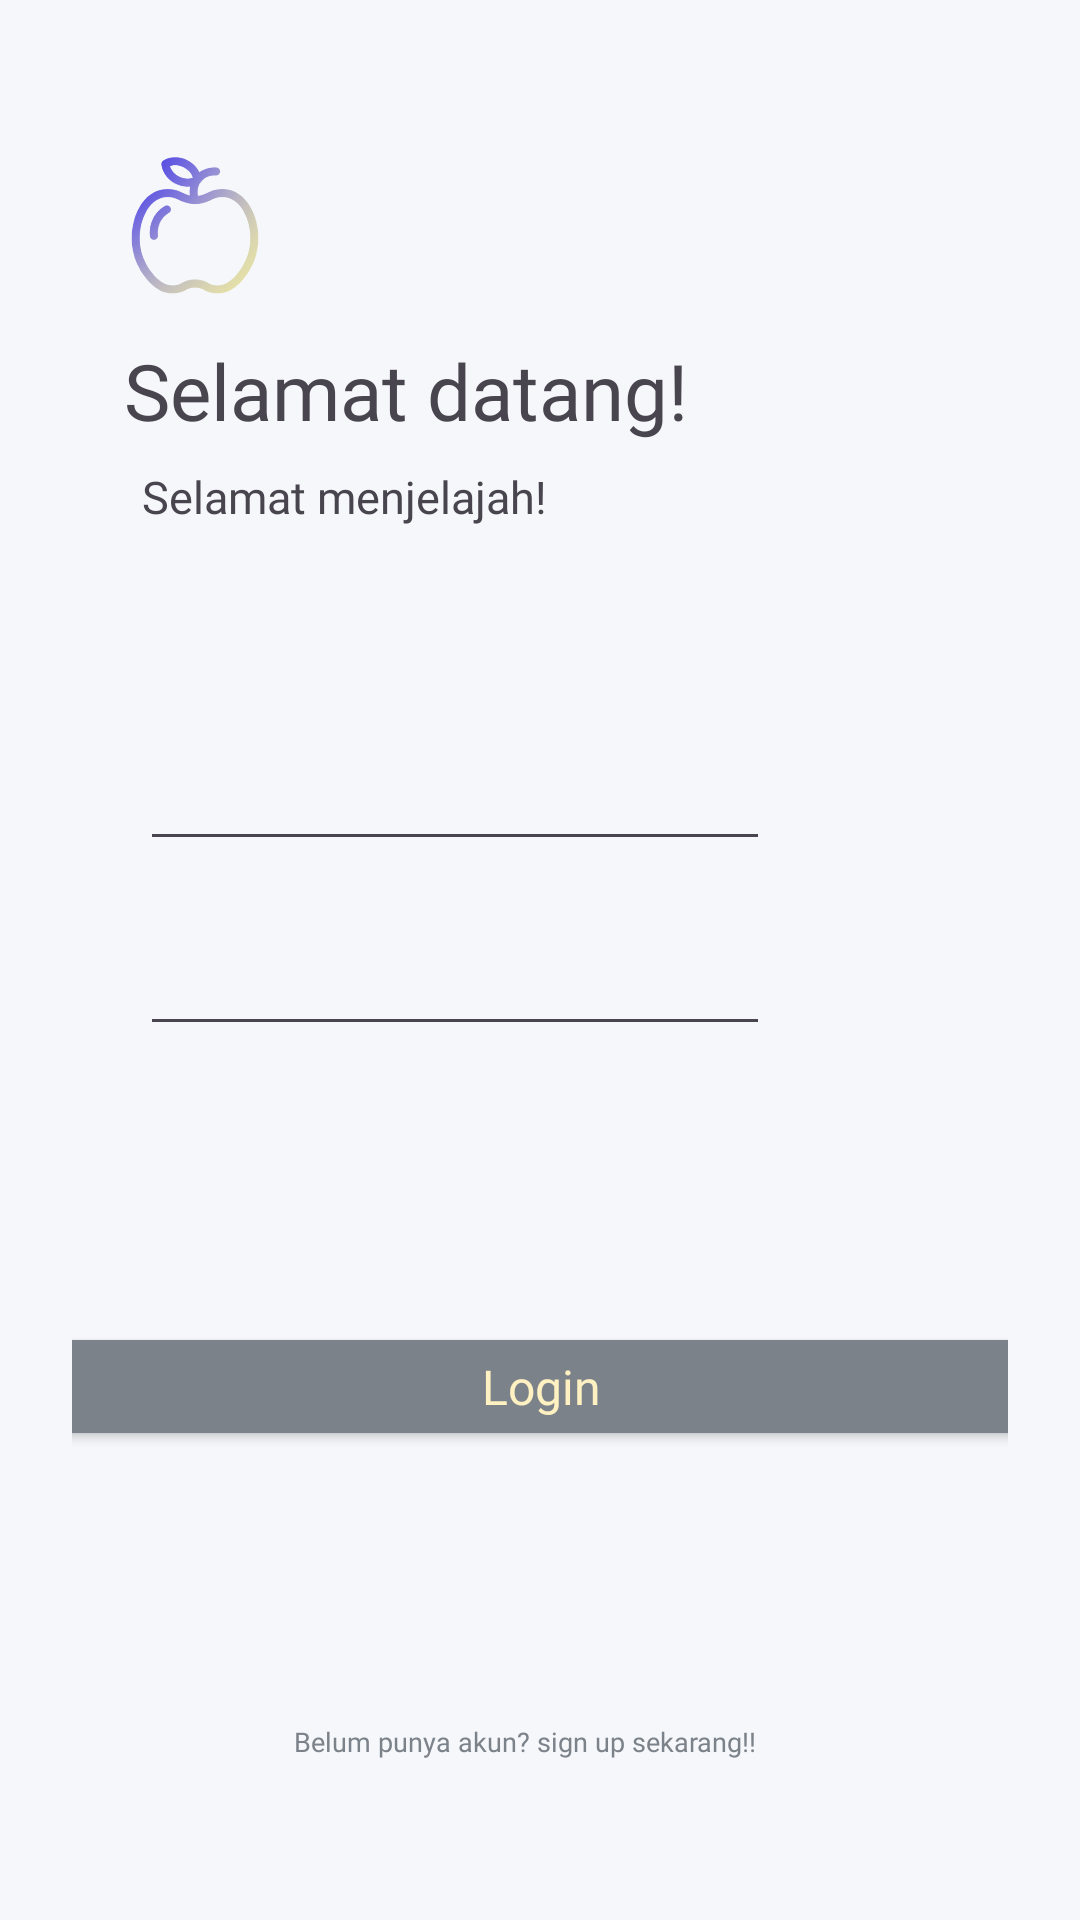

Icon click points for this 1080x1920 phone screenshot, format [x,y]:
apple: [194,225]
